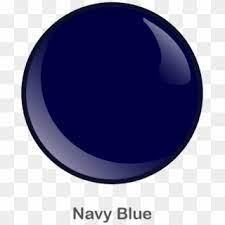blue_circle: (9, 0, 214, 191)
